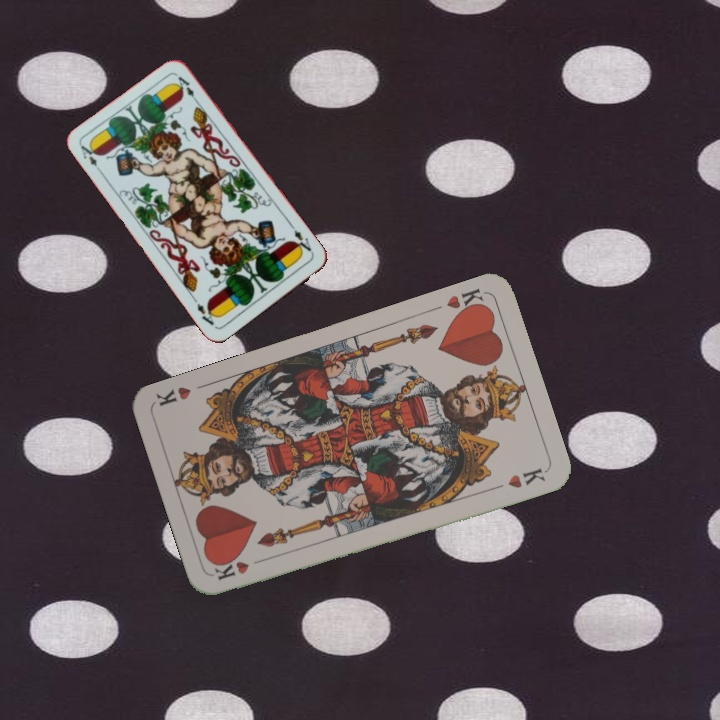EA: (77, 140, 106, 177), (289, 225, 316, 257)
HK: (211, 553, 270, 583), (442, 284, 490, 319)
